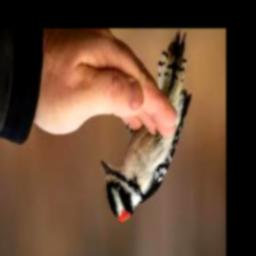Woodpecker: (101, 29, 192, 224)
